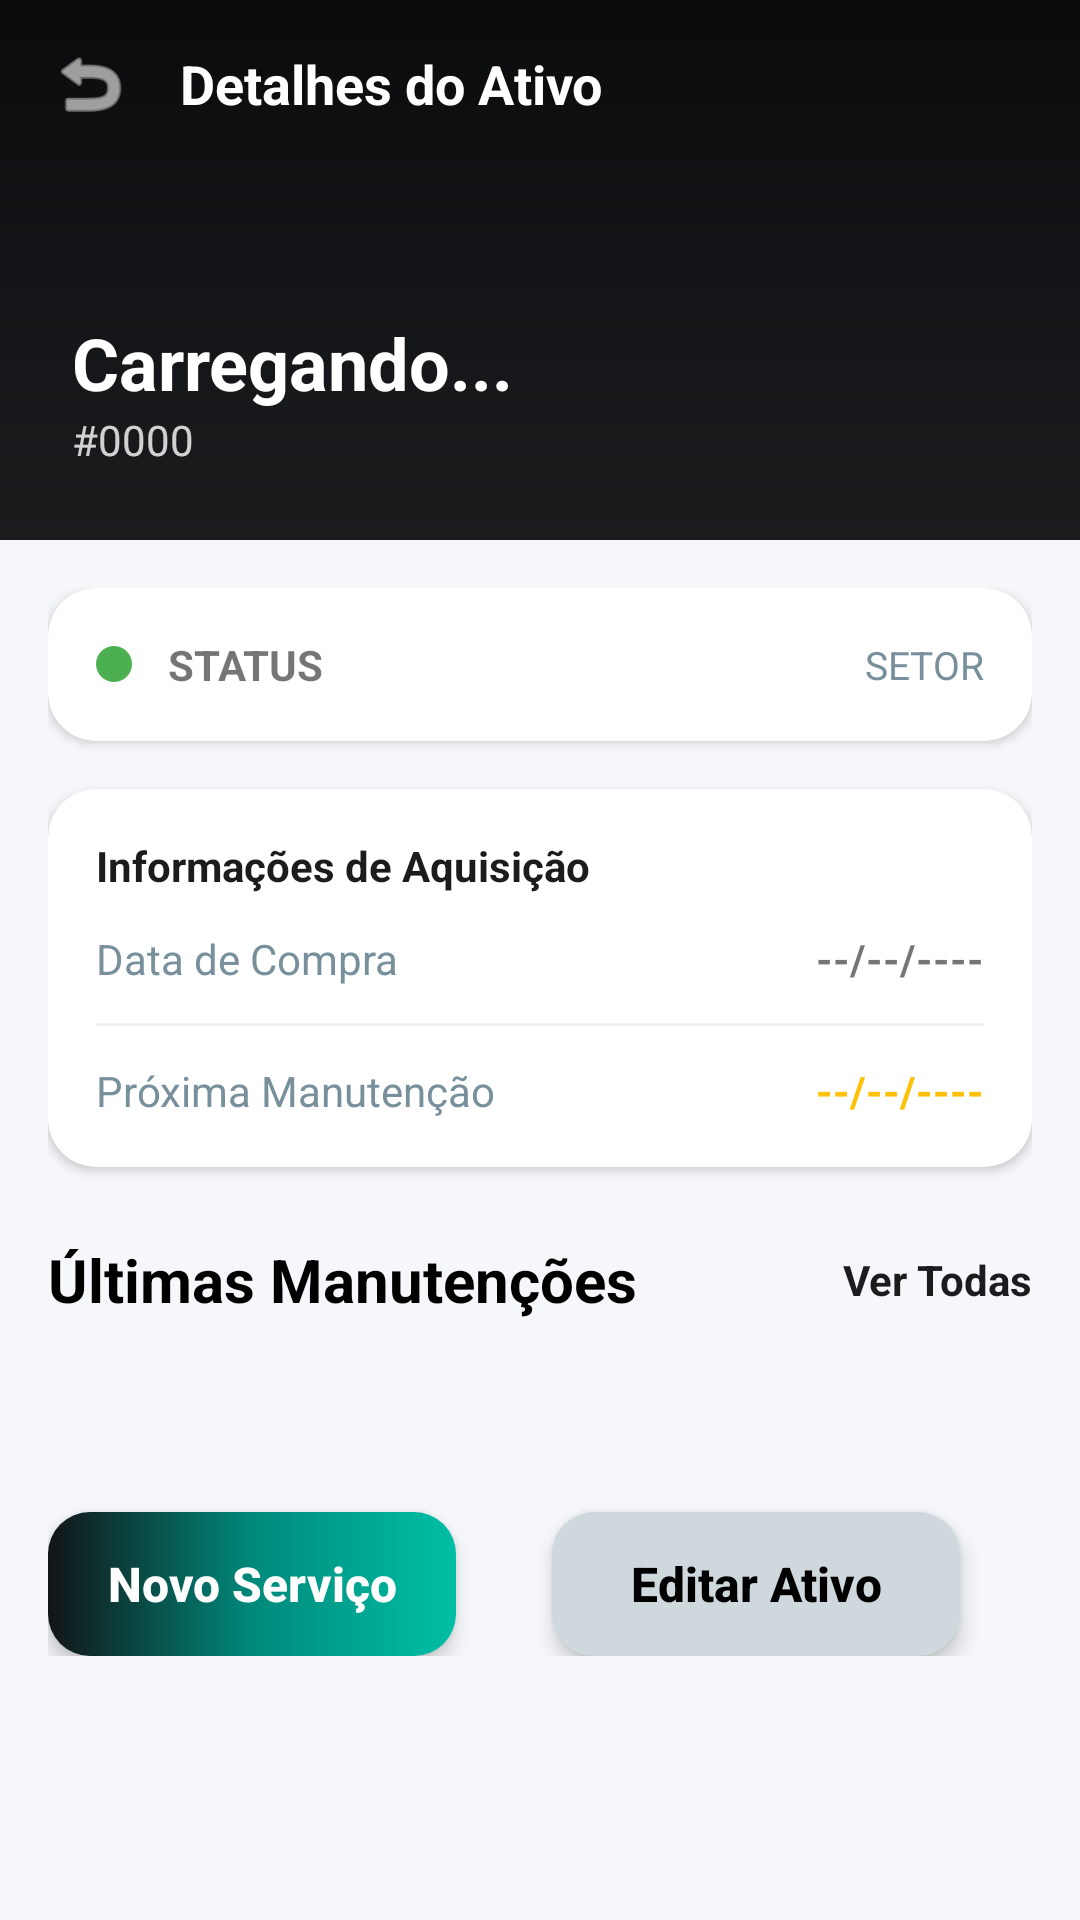

Where icons sit on this 1080w x 1920h app screen, as (x1, y1, x2, y2):
revert: (61, 57, 122, 112)
